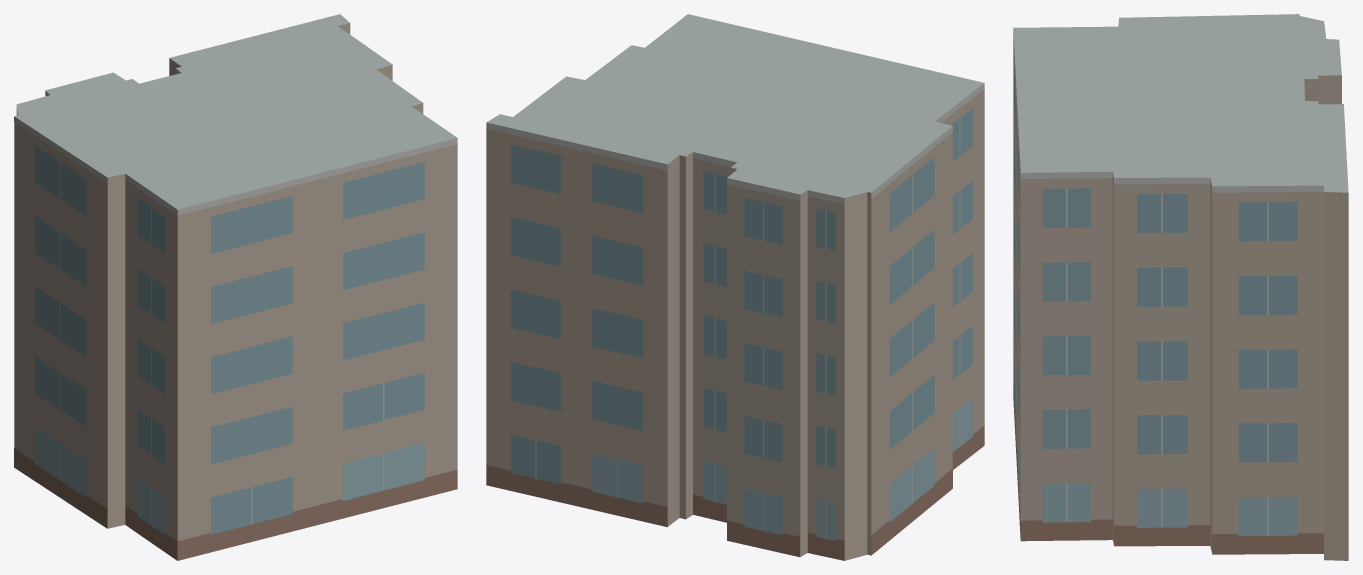
The model's file is survey-upis-32549444.glb.
3 views of the same model, side by side, from view 1: azimuth 30°, elevation 25°; view 2: azimuth 150°, elevation 25°; view 3: azimuth 270°, elevation 25° (orthographic). The views are drawn at different scales.
Visible parts, largest first — view 1: survey-upis-32549444.tmp; view 2: survey-upis-32549444.tmp; view 3: survey-upis-32549444.tmp.
Boxes of the visible parts, box(x1,y1,x2,y2) form: survey-upis-32549444.tmp: box(14, 14, 457, 560); survey-upis-32549444.tmp: box(486, 14, 984, 560); survey-upis-32549444.tmp: box(1013, 14, 1348, 560).
Bounding box in the file's own units: 14.78 × 14.2 × 11.73.
